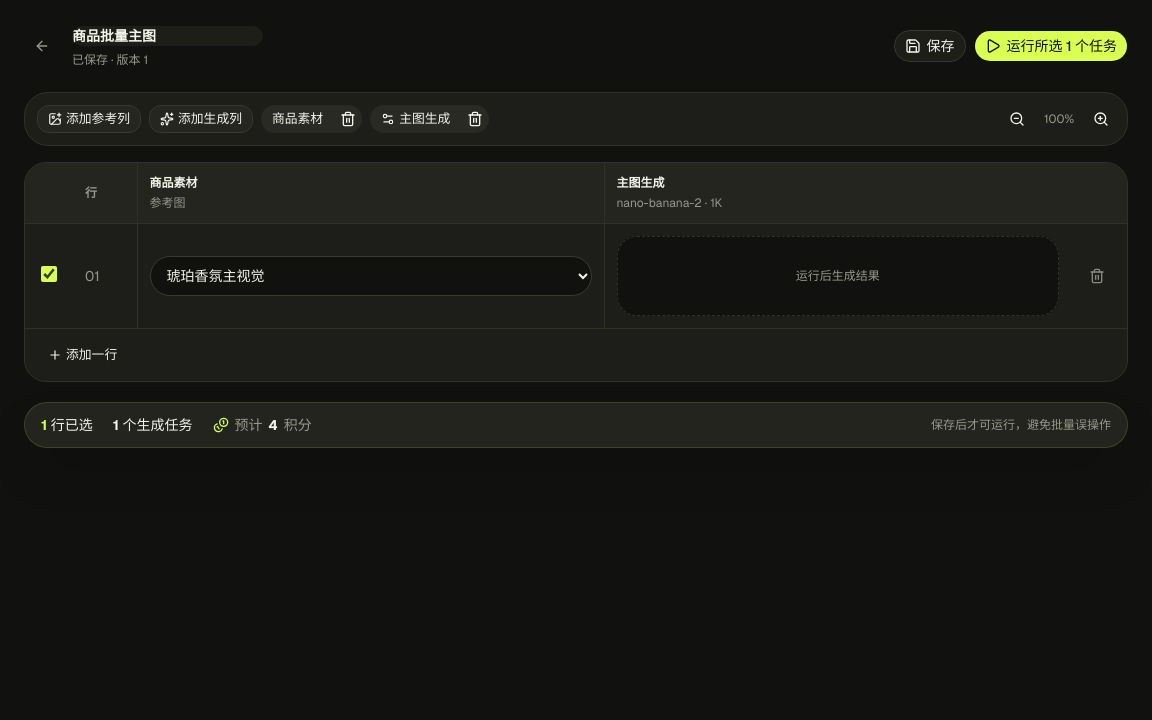
workflow editor › reloads the server version when the conflict dialog asks for it
Expected: the text "已保存 · 版本 1" is shown, [72,52,148,68]
Replace the text in the field named "工作流名称" with "本地草稿" at x=168, y=36, box [72,26,263,46]
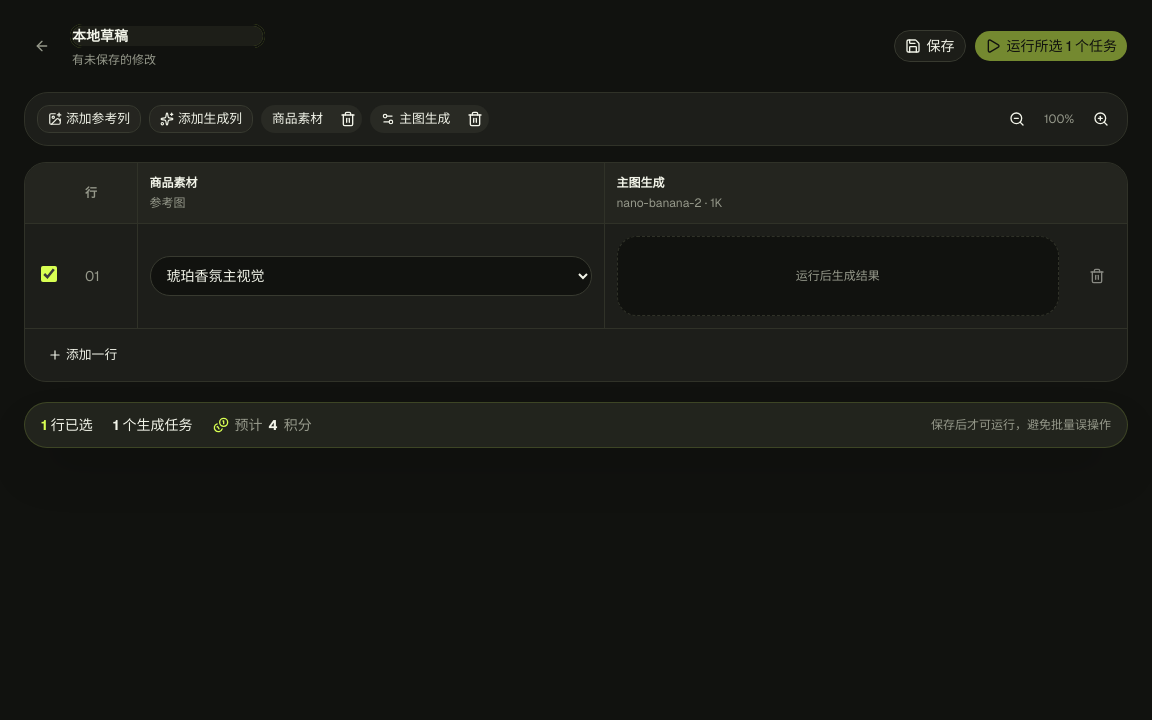
Click the button "保存".
click(930, 46)  # box [894,30,966,62]
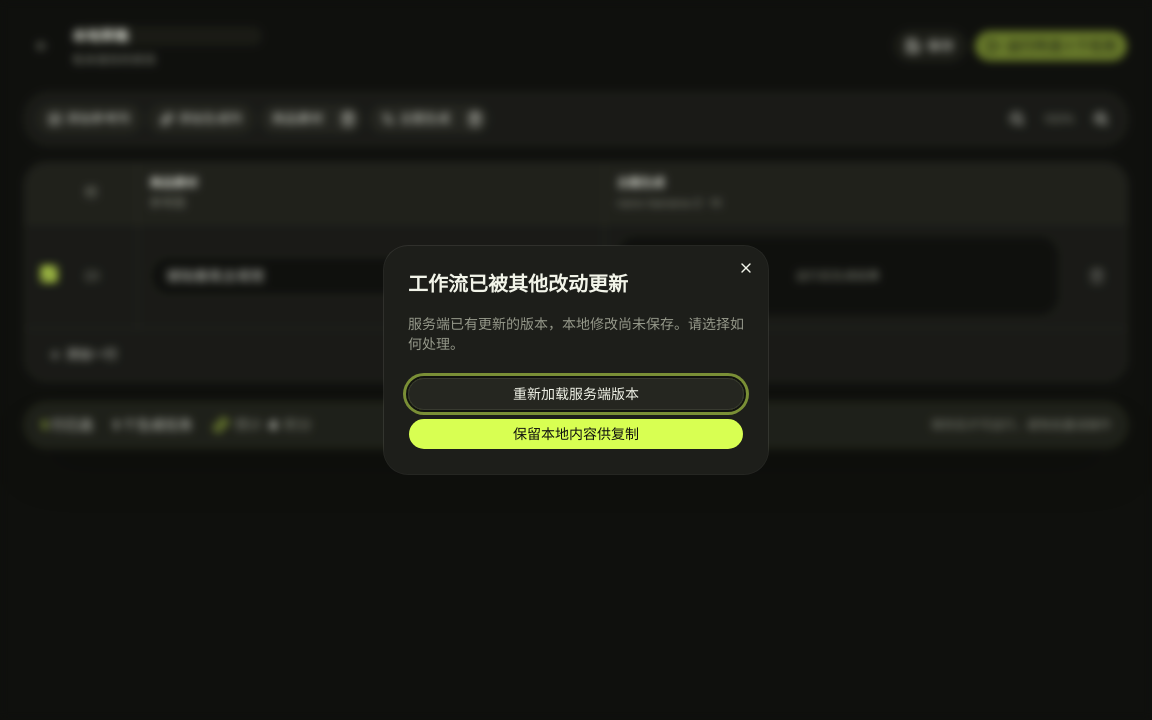
Click the button "重新加载服务端版本".
click(576, 394)  # box [408,378,744,410]
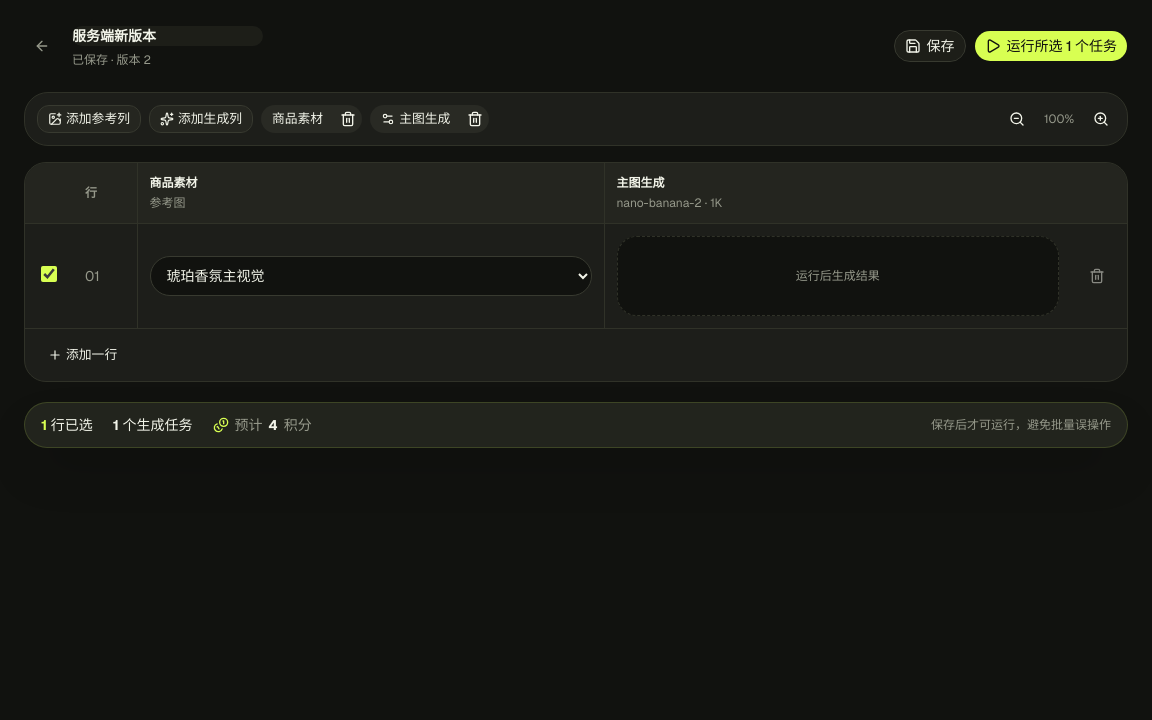
Expected: the field showing "服务端新版本" is shown, [72,26,263,46]
